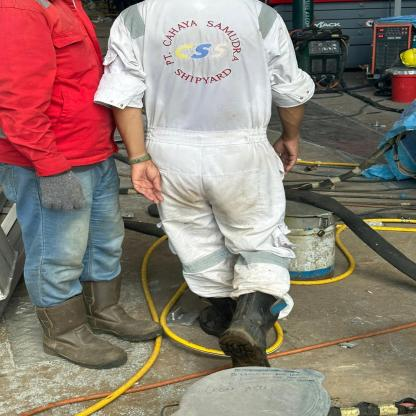bota: (10, 298, 130, 369), (219, 286, 300, 374), (83, 275, 167, 350), (186, 288, 243, 339)
